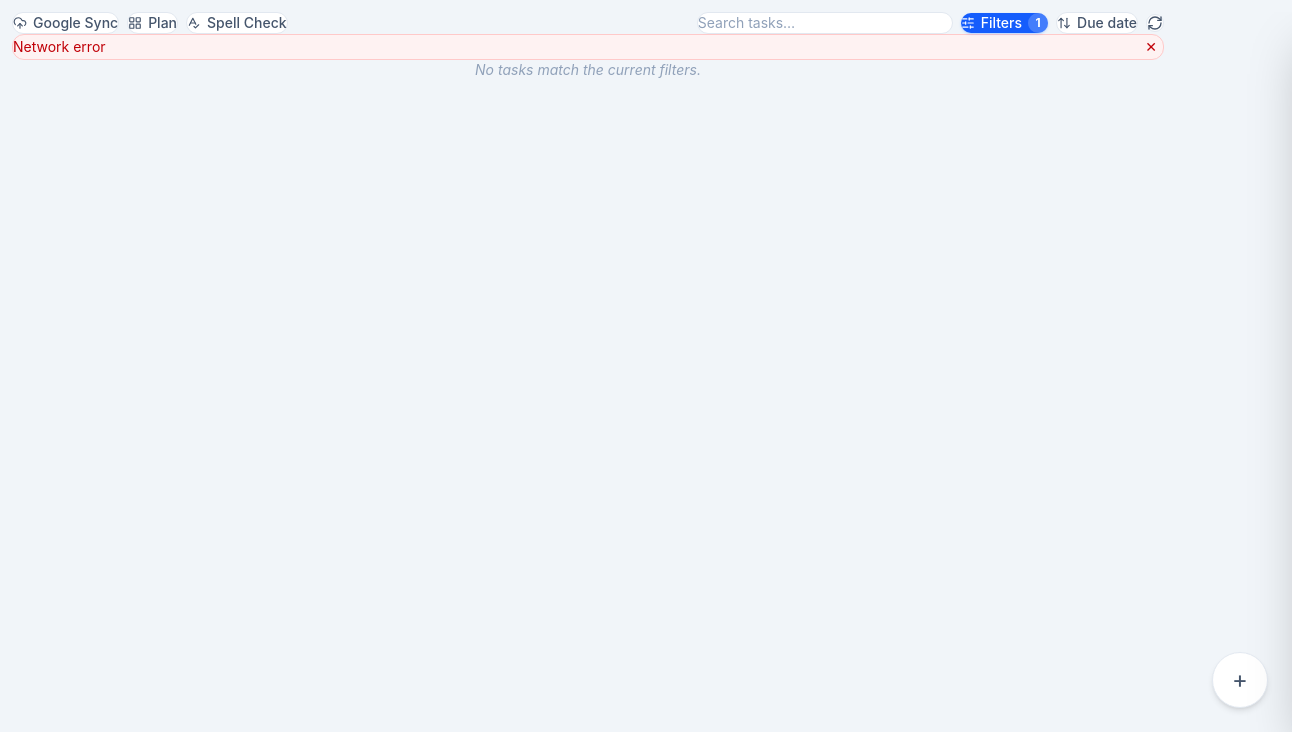
it: TaskList — UI states › dismissing the error banner removes it
Expected: the text "Network error" is shown, [13,37,106,57]
Click the button named "Dismiss error": click(1151, 47) [1139,35,1163,59]
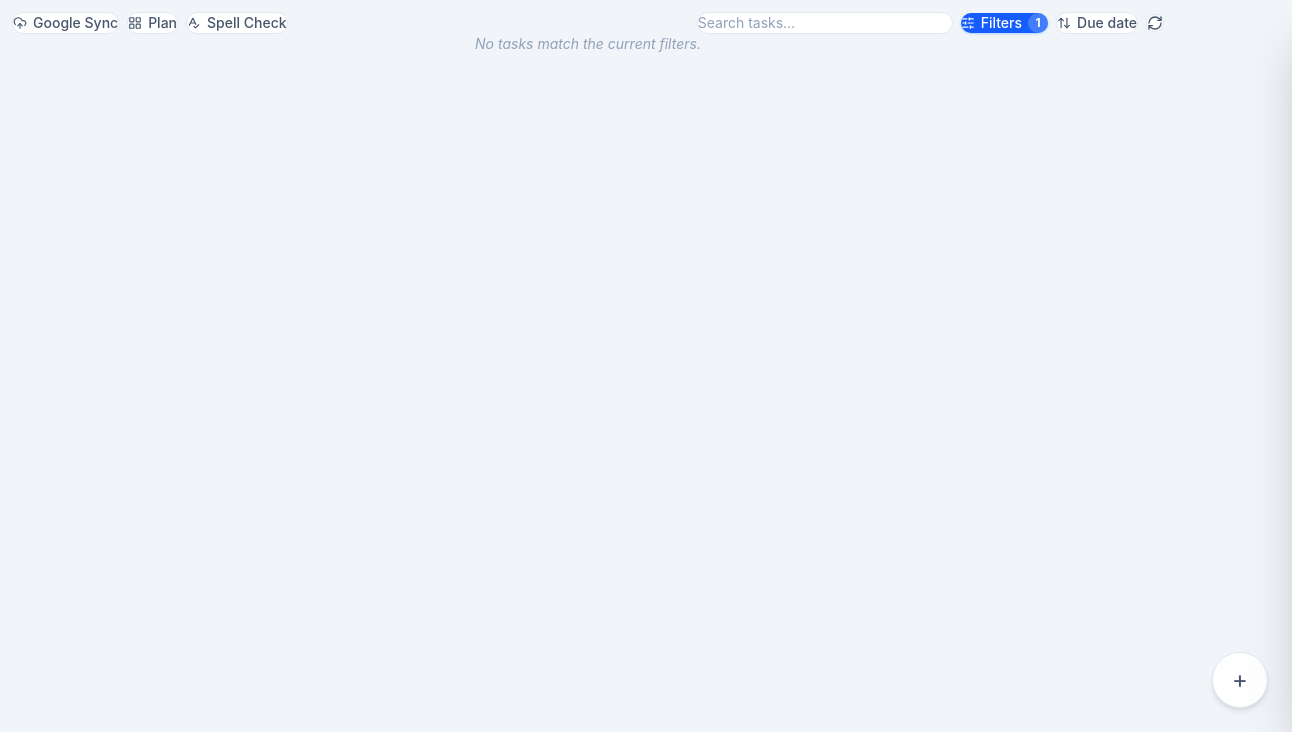
Expected: the text "Network error" is gone
